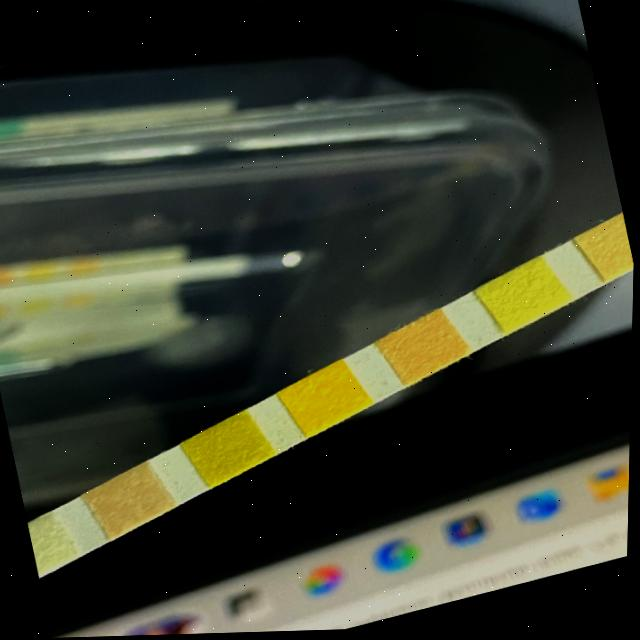Bilirubin: (31, 522, 71, 569)
Blood: (290, 369, 360, 428)
Ketone: (95, 473, 166, 530)
Protein: (490, 270, 561, 327)
SpGravity: (193, 424, 263, 479)
Urobilinogen: (589, 225, 636, 278)
pH: (389, 320, 459, 376)
